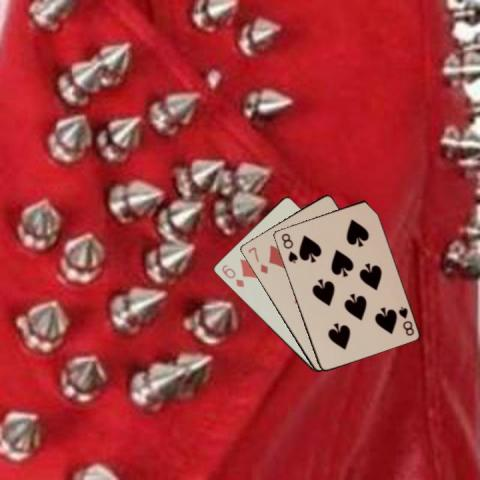6d: (219, 261, 245, 289)
7d: (245, 244, 269, 275)
8s: (278, 230, 299, 265), (396, 304, 416, 338)
